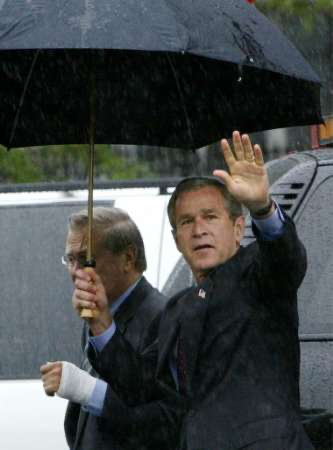Face: (168, 197, 243, 268), (55, 225, 115, 301)
